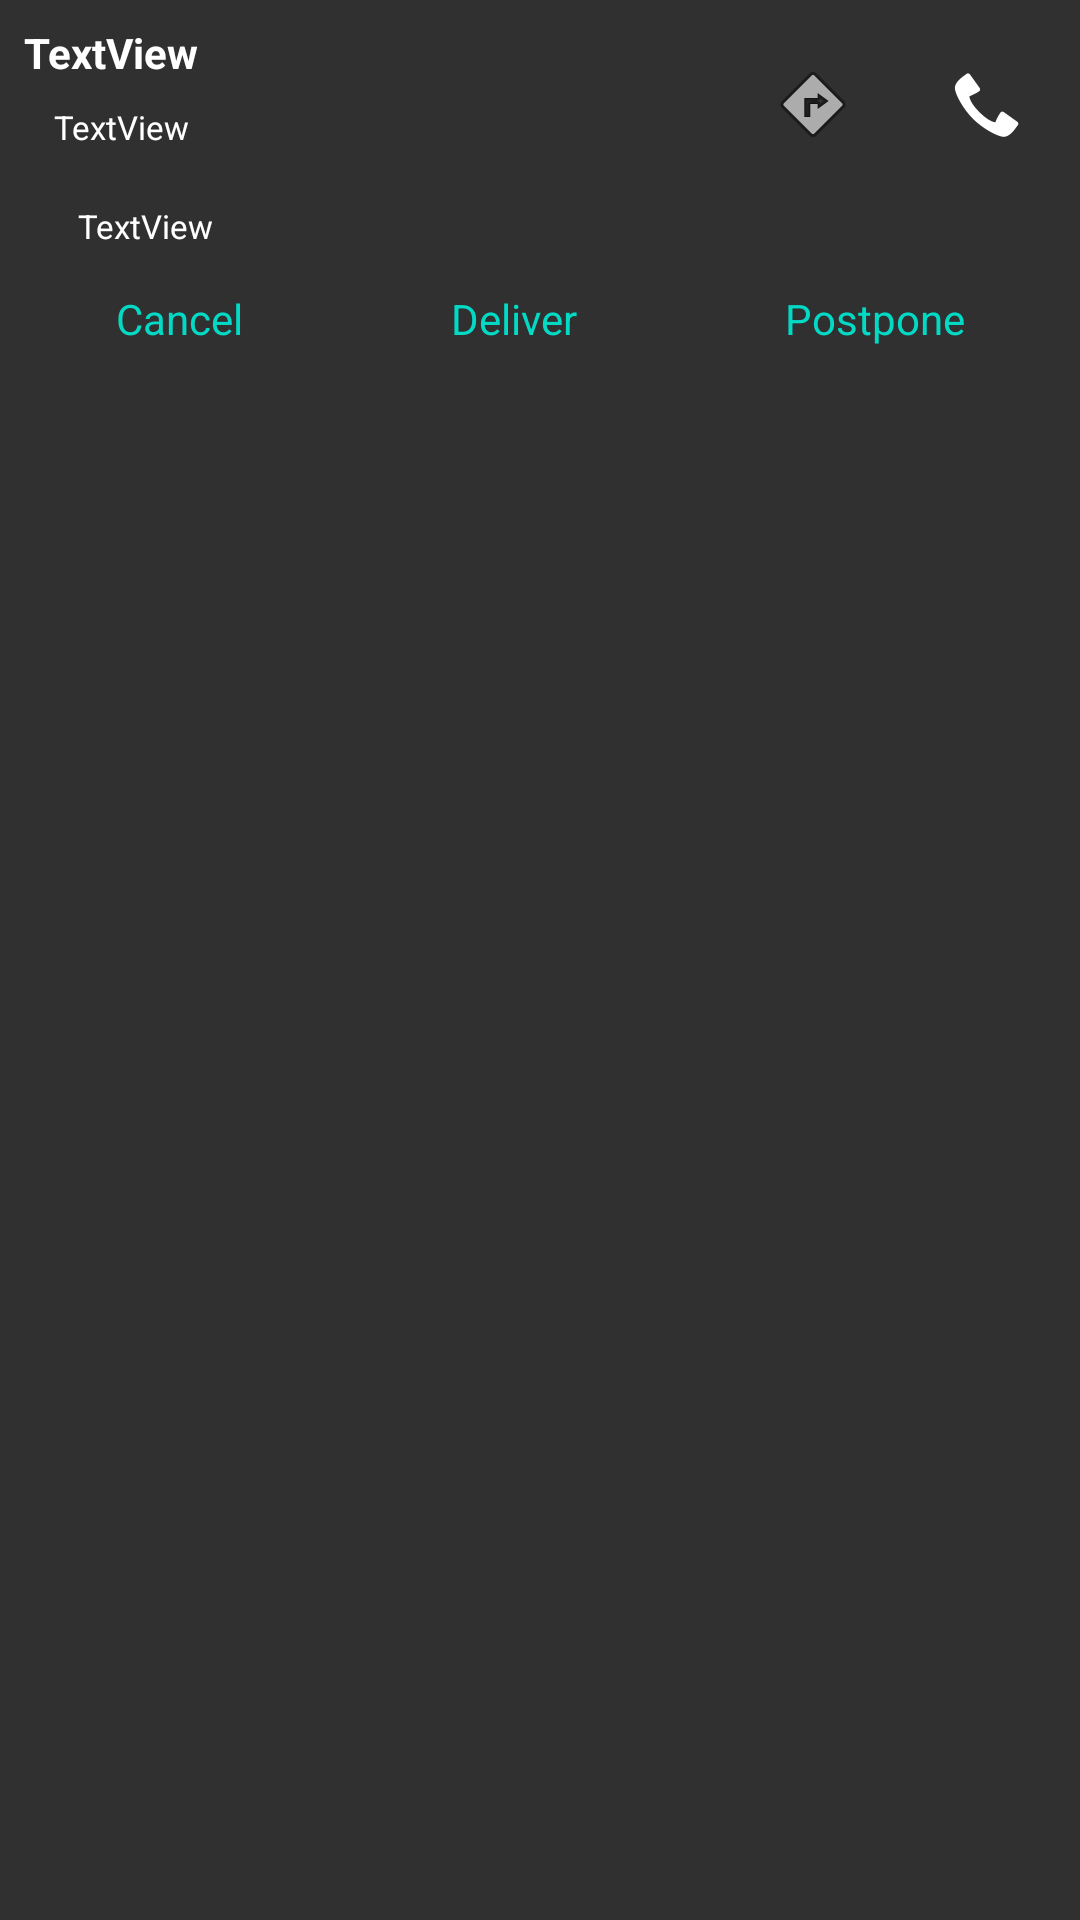

Named icons in this screenshot (1080px×1920px) and their centers, (x=x, y=y):
directions: (x=813, y=104)
phone call: (x=987, y=105)
